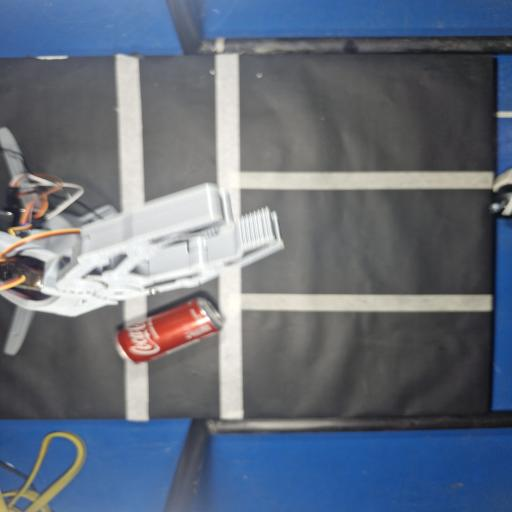lata: (116, 297, 222, 363)
